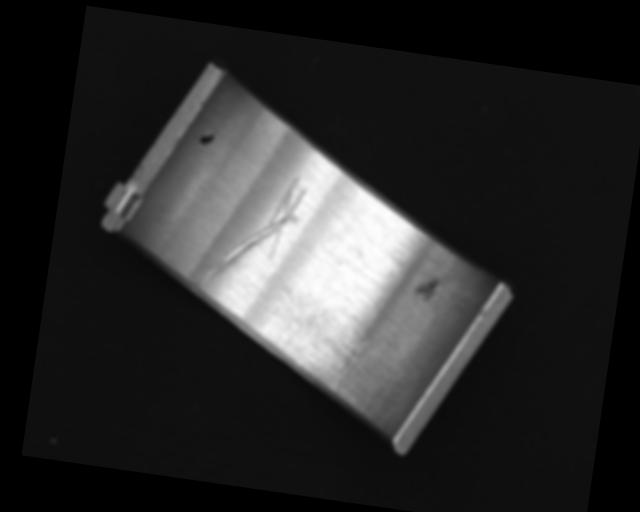blot: (197, 130, 215, 146)
bruise: (414, 275, 441, 302)
nick: (194, 161, 311, 301)
scratch: (270, 304, 384, 411)
